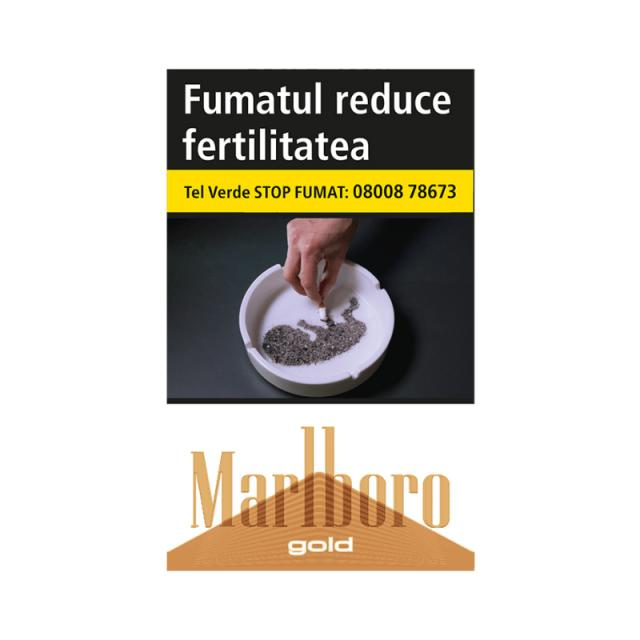marlboro: (155, 58, 484, 584)
